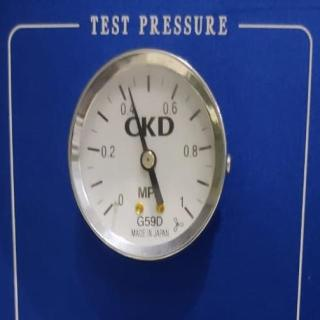gauge: (57, 17, 233, 293), (176, 194, 200, 226), (101, 195, 123, 217), (139, 149, 157, 171), (124, 84, 134, 96)
